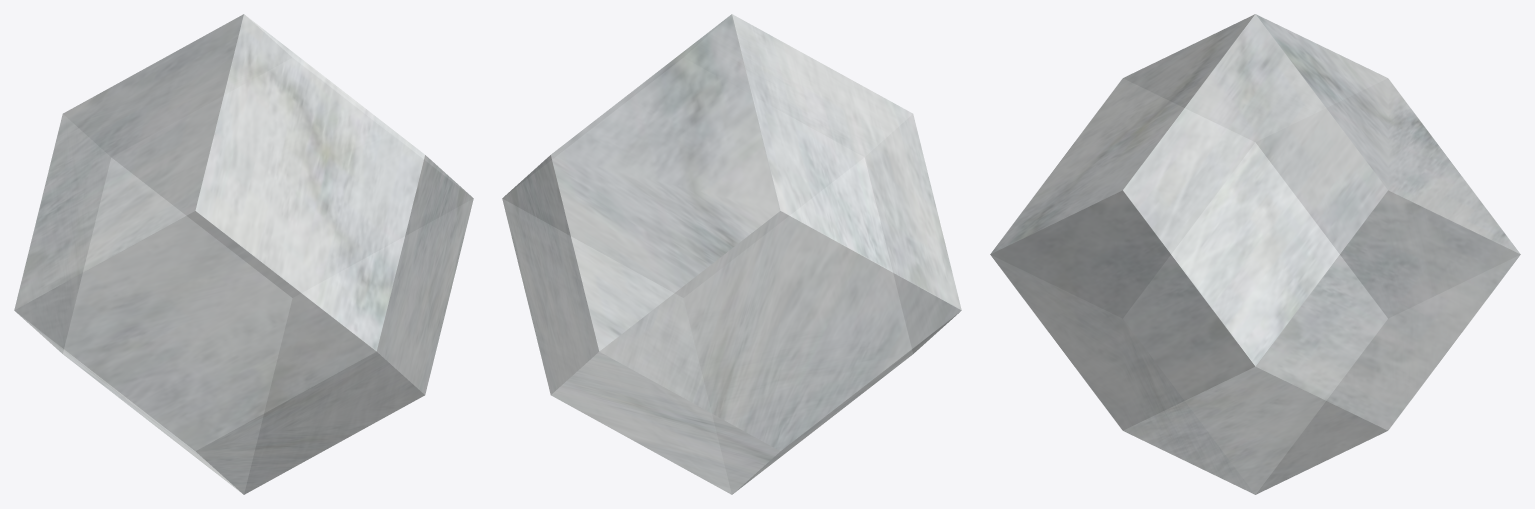
File: RhombicDodecahedron.obj
The picture shows the model from 3 angles, left to right: view 1: azimuth 30°, elevation 25°; view 2: azimuth 150°, elevation 25°; view 3: azimuth 270°, elevation 25°; orthographic projection.
Bounding box in the file's own units: 2.12 × 2.12 × 2.12.
Materials: 1 (1 with a texture image).
